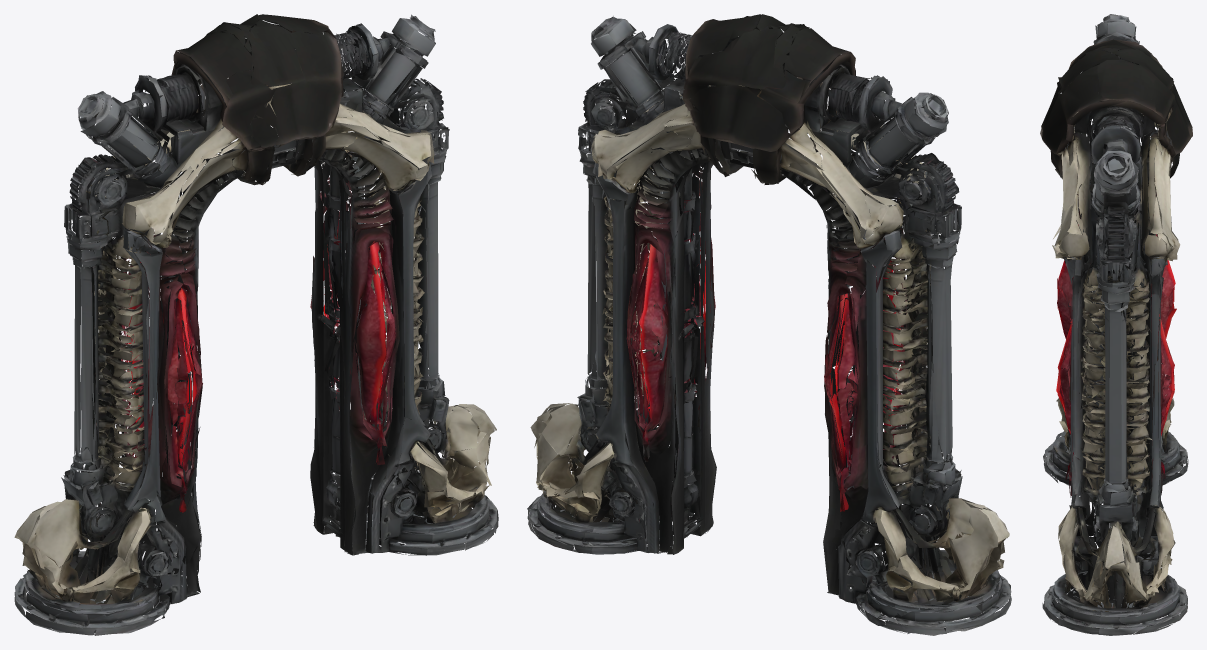
File: door_arch_guillotine_frame.glb
3 views of the same model, side by side, from view 1: azimuth 30°, elevation 25°; view 2: azimuth 150°, elevation 25°; view 3: azimuth 270°, elevation 25° (orthographic). The views are drawn at different scales.
Parts seen in each view (by area): view 1: node_0; view 2: node_0; view 3: node_0.
Boxes of the visible parts, left/top/right/bottom form: node_0: left=14, top=14, right=498, bottom=635; node_0: left=527, top=14, right=1011, bottom=635; node_0: left=1040, top=14, right=1192, bottom=635.
Size of the model in its own units: 0.8175 by 0.8994 by 0.2576.
1 material, 1 textured.
